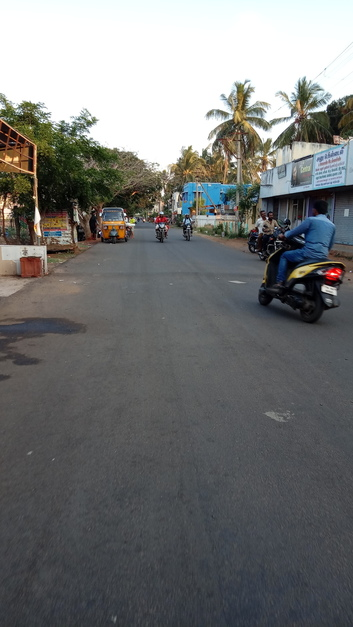bump: (48, 268, 267, 280)
